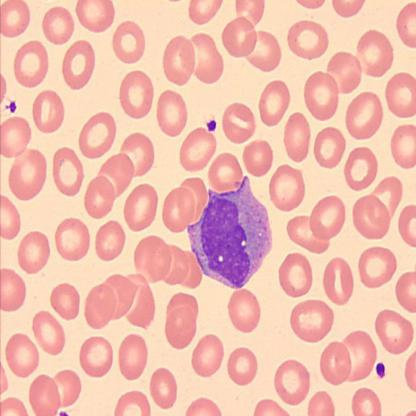Monocyte: (185, 172, 275, 290)
